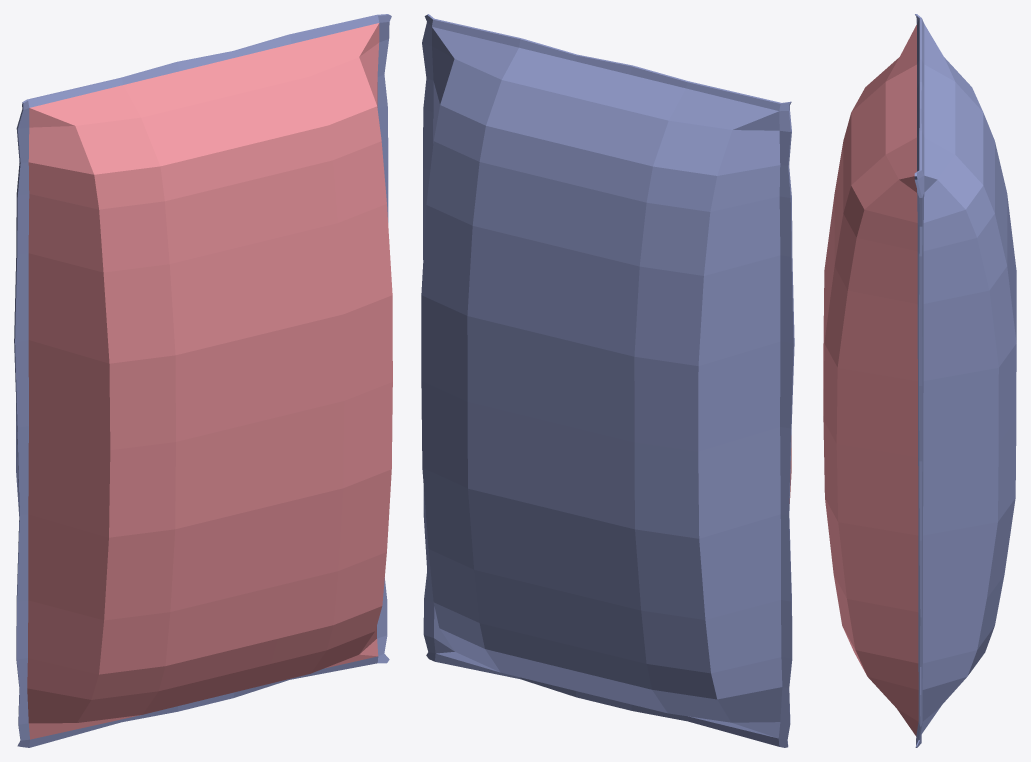
File: salt.FBX
3 views of the same model, side by side, from view 1: azimuth 30°, elevation 25°; view 2: azimuth 150°, elevation 25°; view 3: azimuth 270°, elevation 25° (orthographic). The views are drawn at different scales.
Parts seen in each view (by area): view 1: Box001; view 2: Box001; view 3: Box001.
Part boxes in pixels (left/top/right/bottom): Box001: left=14, top=14, right=392, bottom=747; Box001: left=421, top=14, right=794, bottom=747; Box001: left=823, top=14, right=1016, bottom=747.
Bounding box in the file's own units: 67.7 × 112 × 34.1.
